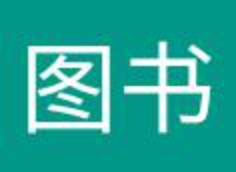TextView: (1, 1, 235, 171)
